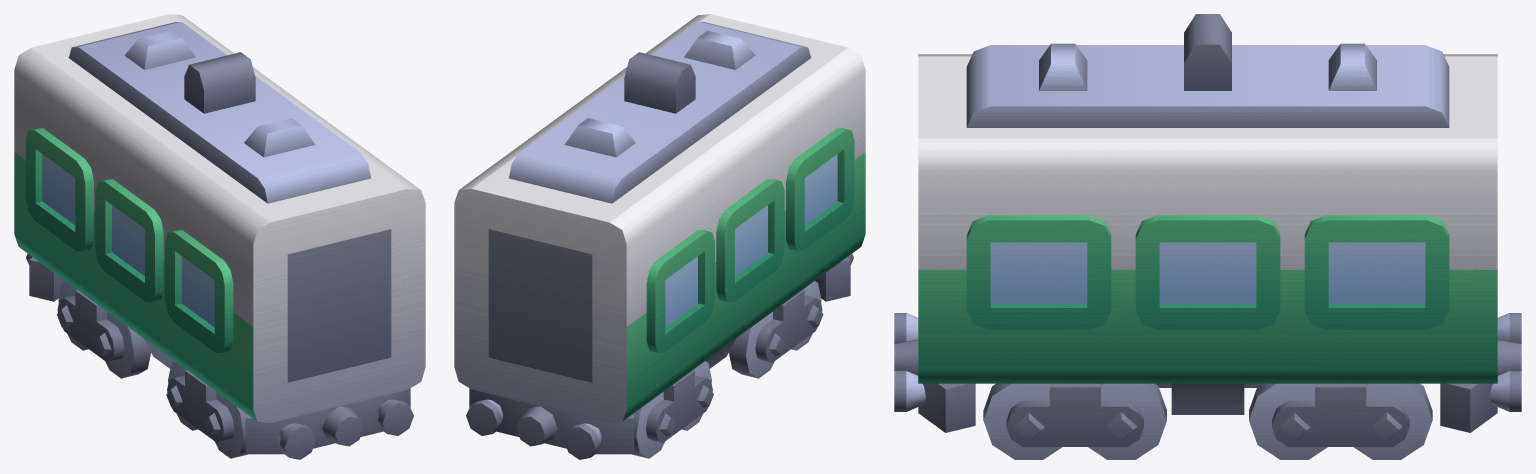
File: train-electric-square-c.glb
3 renders of one model, left to right at view 1: azimuth 30°, elevation 25°; view 2: azimuth 150°, elevation 25°; view 3: azimuth 270°, elevation 25°, orthographic. The views are drawn at different scales.
Visible parts, largest first — view 1: train-electric-square-c, wheels-back, wheels-front; view 2: train-electric-square-c, wheels-front, wheels-back; view 3: train-electric-square-c, wheels-back, wheels-front.
Part boxes in pixels (x1,y1,x2,y2): train-electric-square-c: (14, 14, 425, 459); wheels-back: (57, 281, 150, 378); wheels-front: (166, 361, 247, 458); train-electric-square-c: (454, 14, 865, 459); wheels-front: (729, 281, 823, 378); wheels-back: (632, 361, 713, 458); train-electric-square-c: (894, 14, 1521, 432); wheels-back: (1249, 383, 1432, 459); wheels-front: (983, 383, 1166, 459).
Size of the model in its own units: 1.1 by 1.78 by 2.6.
Materials: 1 (1 with a texture image).
